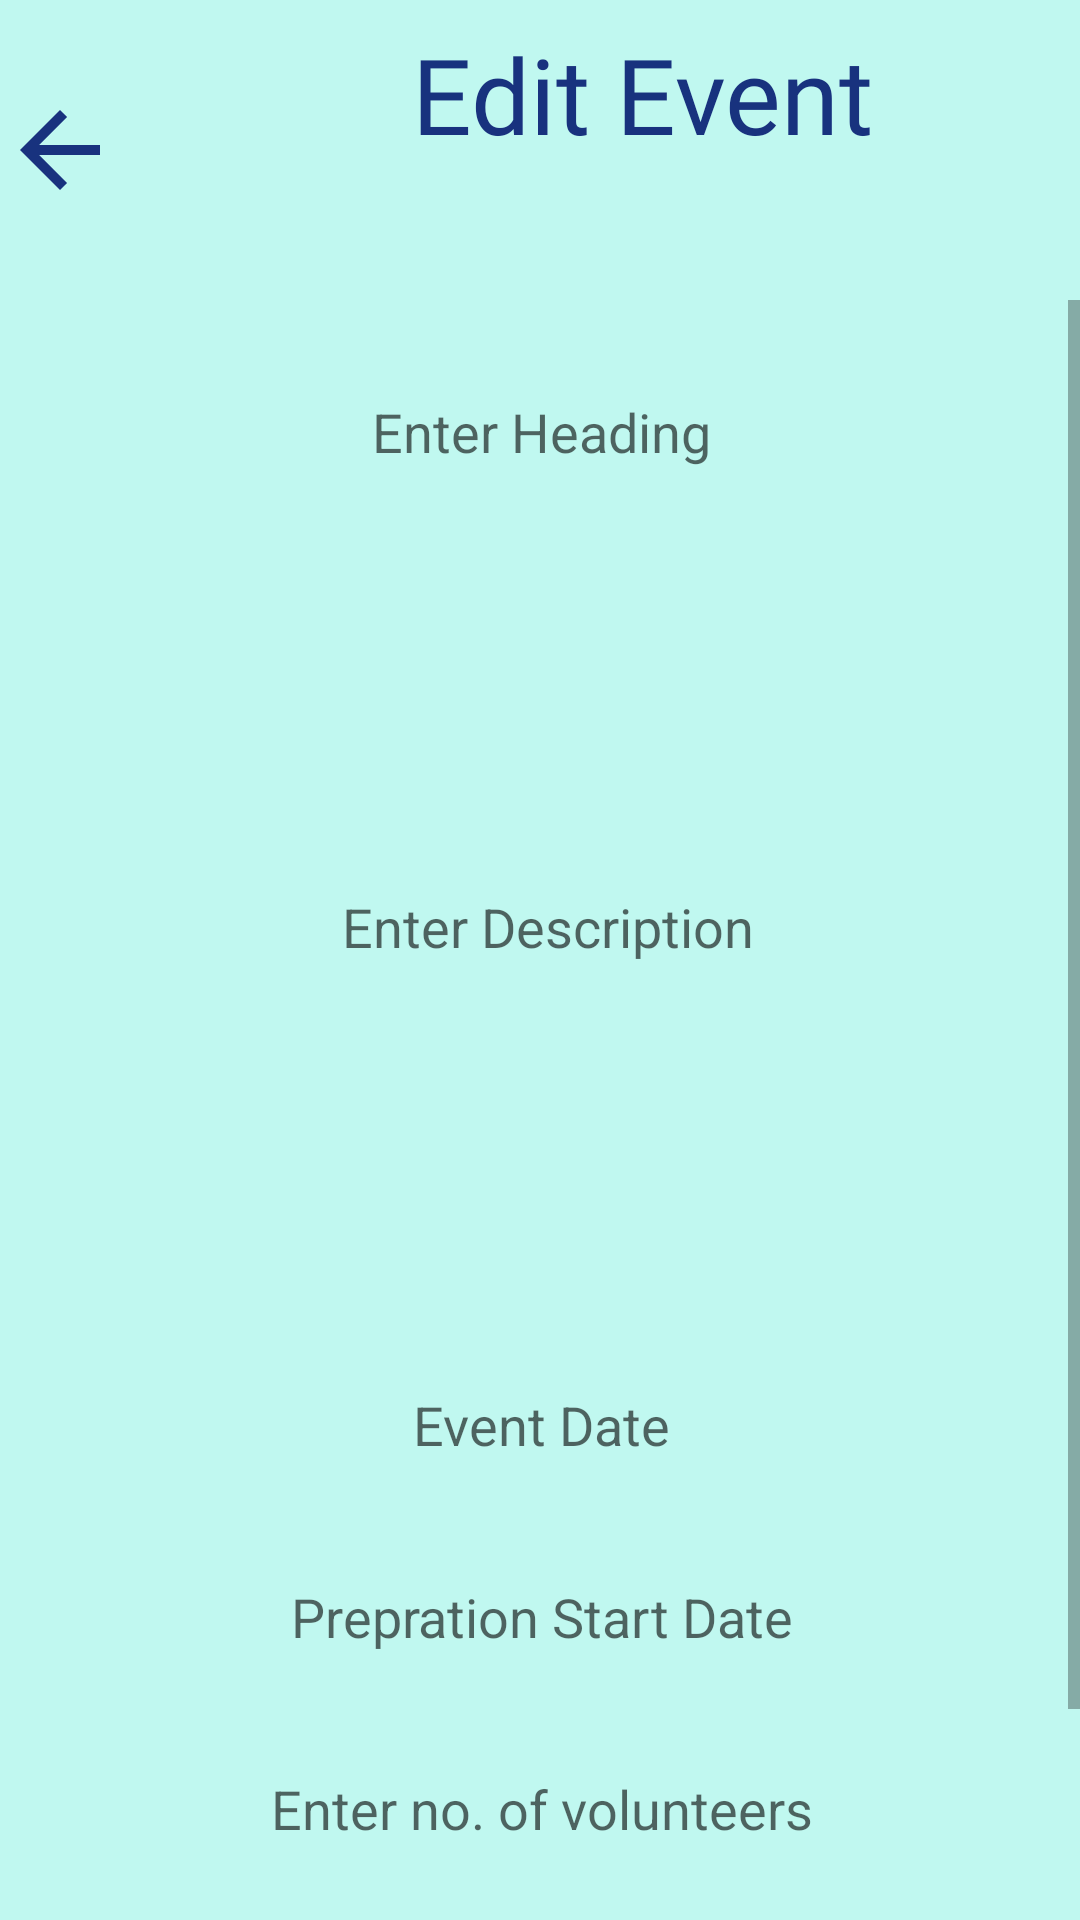

Where to tap for icons on this 1080w x 1920h app screen, as [x,y]:
back: [60,150]
